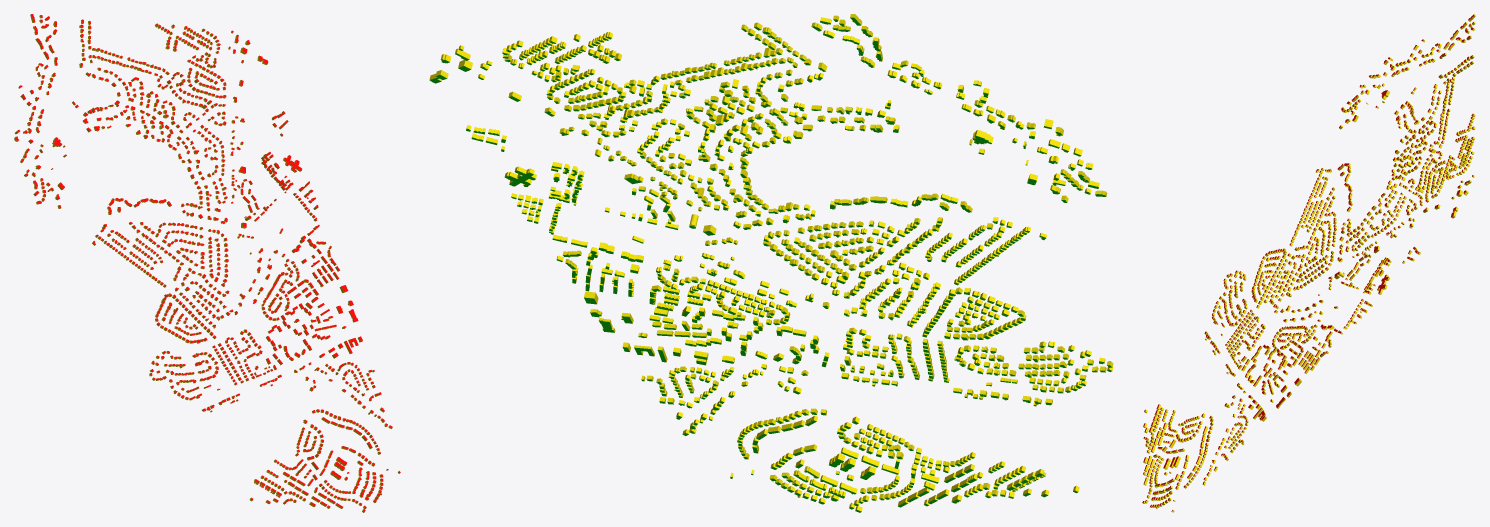
3 renders of one model, left to right at view 1: azimuth 30°, elevation 25°; view 2: azimuth 150°, elevation 25°; view 3: azimuth 270°, elevation 25°, orthographic. The views are drawn at different scales.
Visible parts, largest first — view 1: mesh; view 2: mesh; view 3: mesh.
Boxes of the visible parts, x1,y1,x2,y2 form: mesh: (14, 14, 400, 512); mesh: (429, 14, 1113, 512); mesh: (1142, 14, 1475, 512).
Size of the model in its own units: 2018 by 2750 by 2024.
